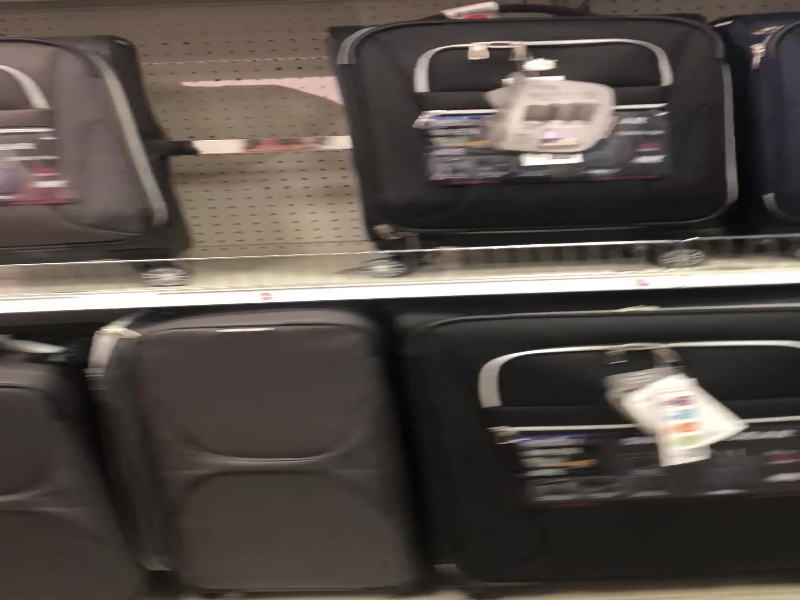void: (182, 1, 347, 290)
